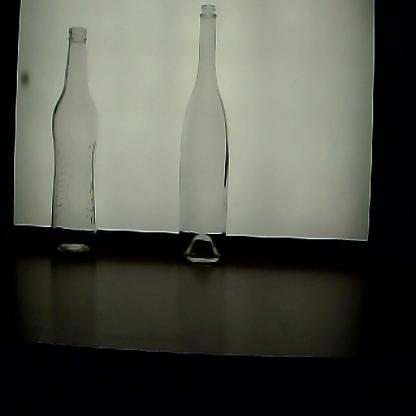Can: (179, 3, 229, 264), (52, 27, 98, 254)
